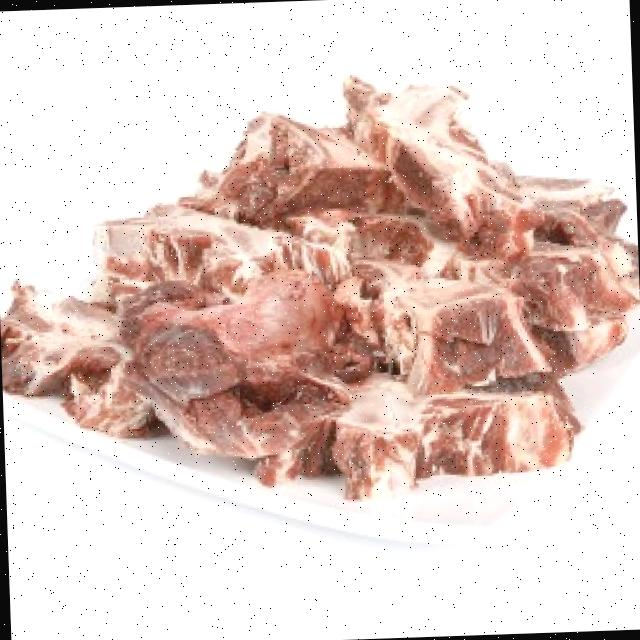meat: (9, 81, 640, 497)
